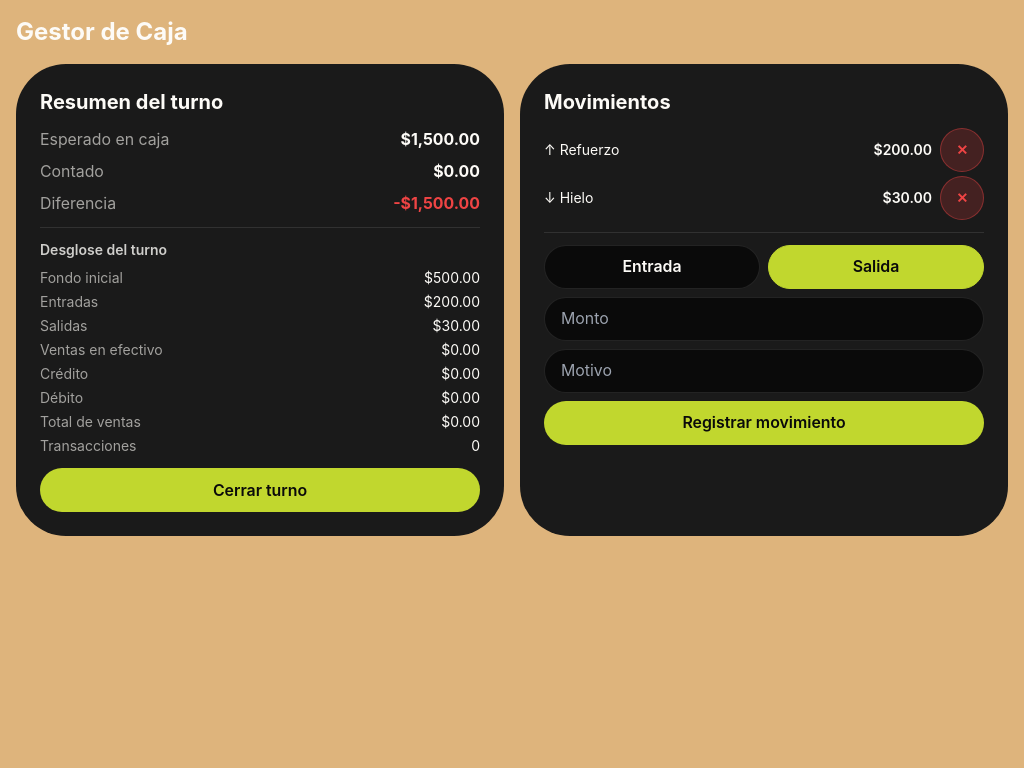
F10.6.4 — imprimir corte › muestra el botón "Imprimir corte" tras cerrar el turno
Expected: the heading "Resumen del turno" is shown, [40,90,223,114]
Click the button "Cerrar turno".
click(260, 490)  # box [40,468,480,512]
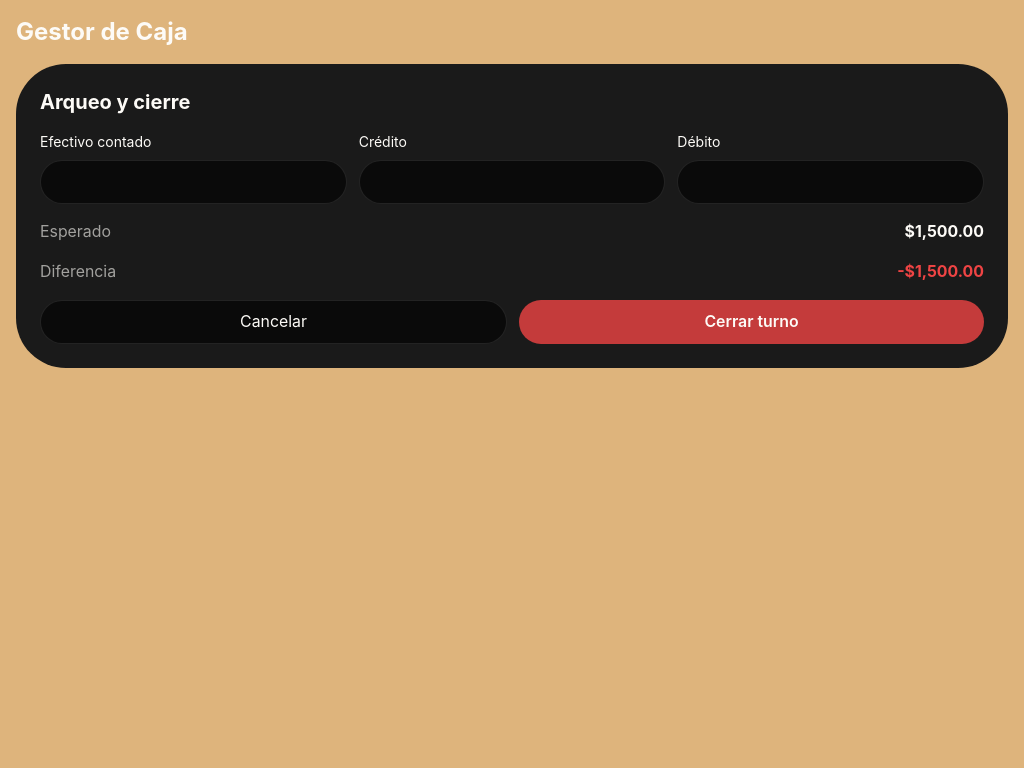
Expected: the heading "Arqueo y cierre" is shown, [40,90,190,114]
Type "1500" into the field with test id "campo-conteoEfectivo".
click(193, 182); type("1500")  # box [40,160,347,204]
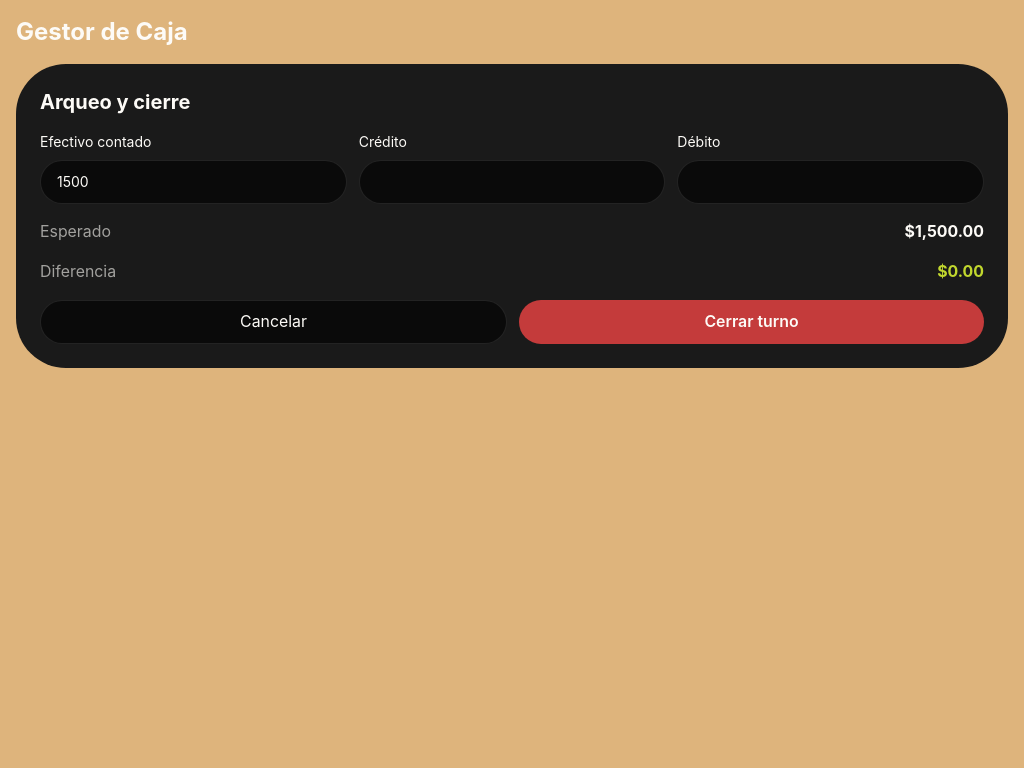
Click the button "Cerrar turno".
click(752, 322)  # box [519,300,984,344]
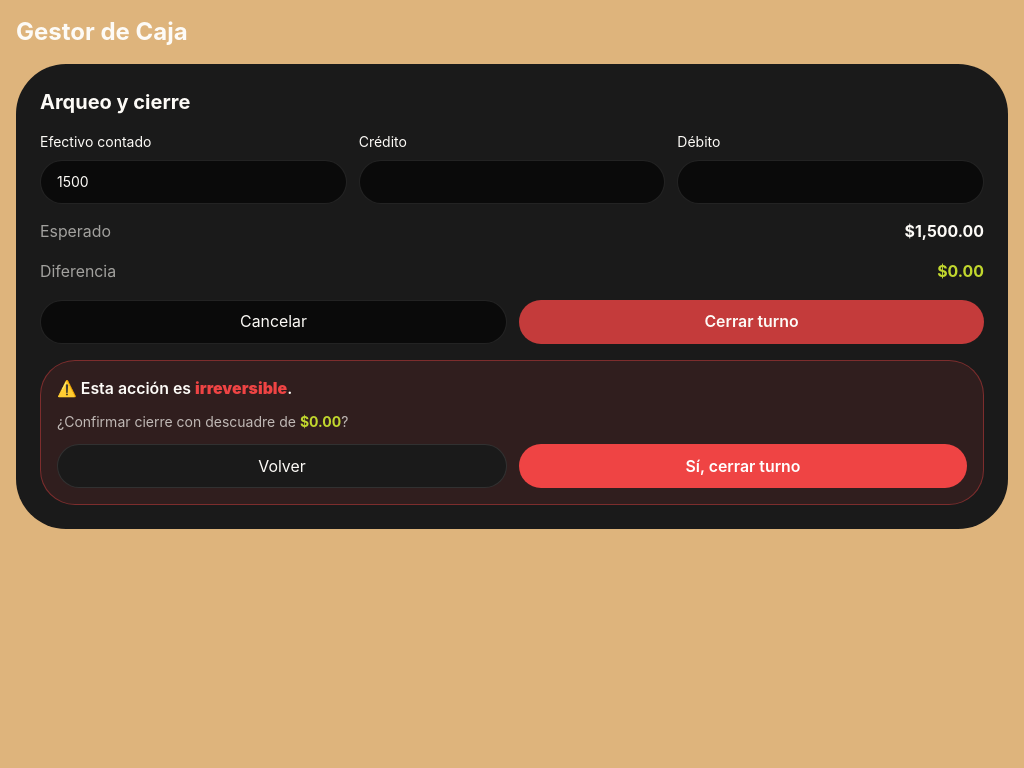
Click the button "Sí, cerrar turno".
click(743, 466)  # box [519,444,967,488]
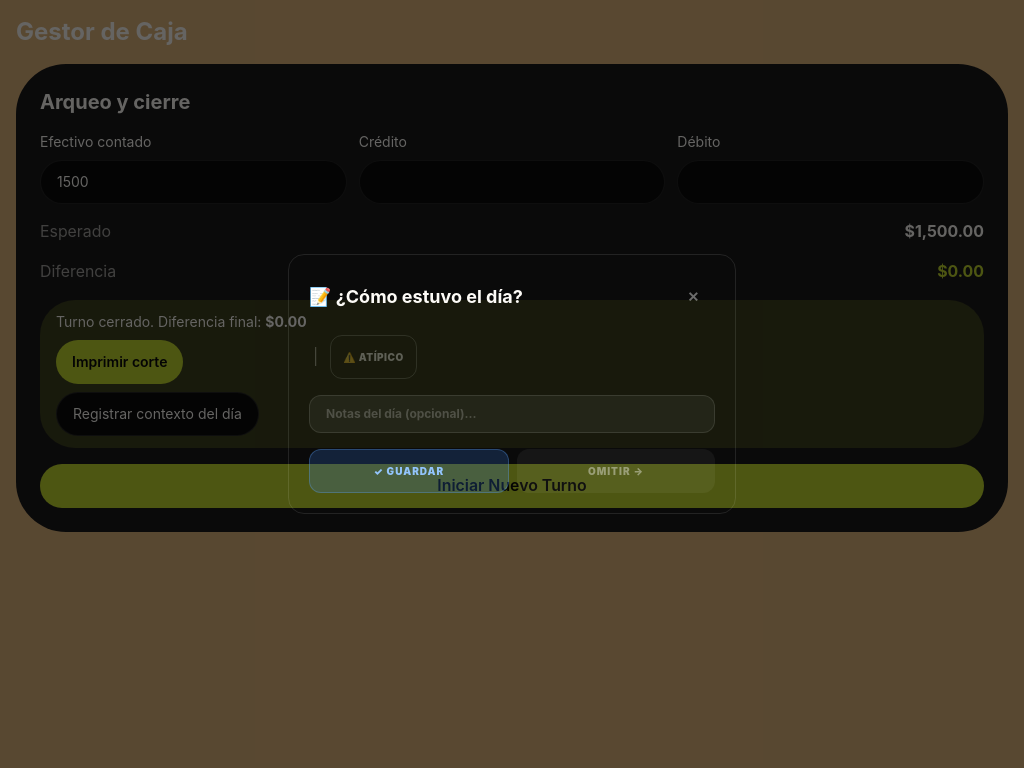
Expected: the text "$0.00" is shown, [265,313,307,330]
Expected: the button with test id "imprimir-corte" is shown, [56,340,184,384]
